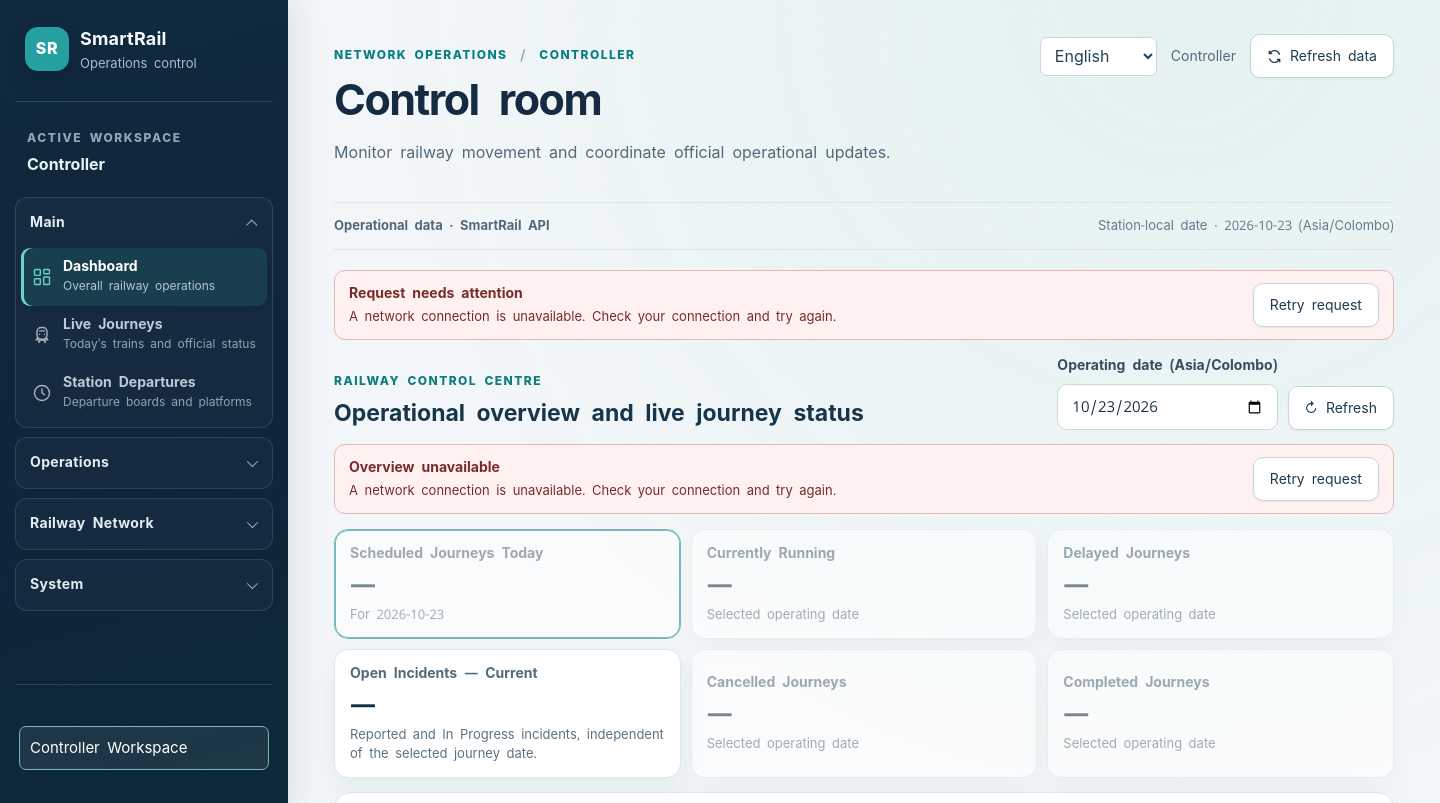
Test: operations workspace interactions › submits a validated station incident with the API contract and announces success
Click the button "Operations" at (144, 462), box left=16, top=438, right=272, bottom=488
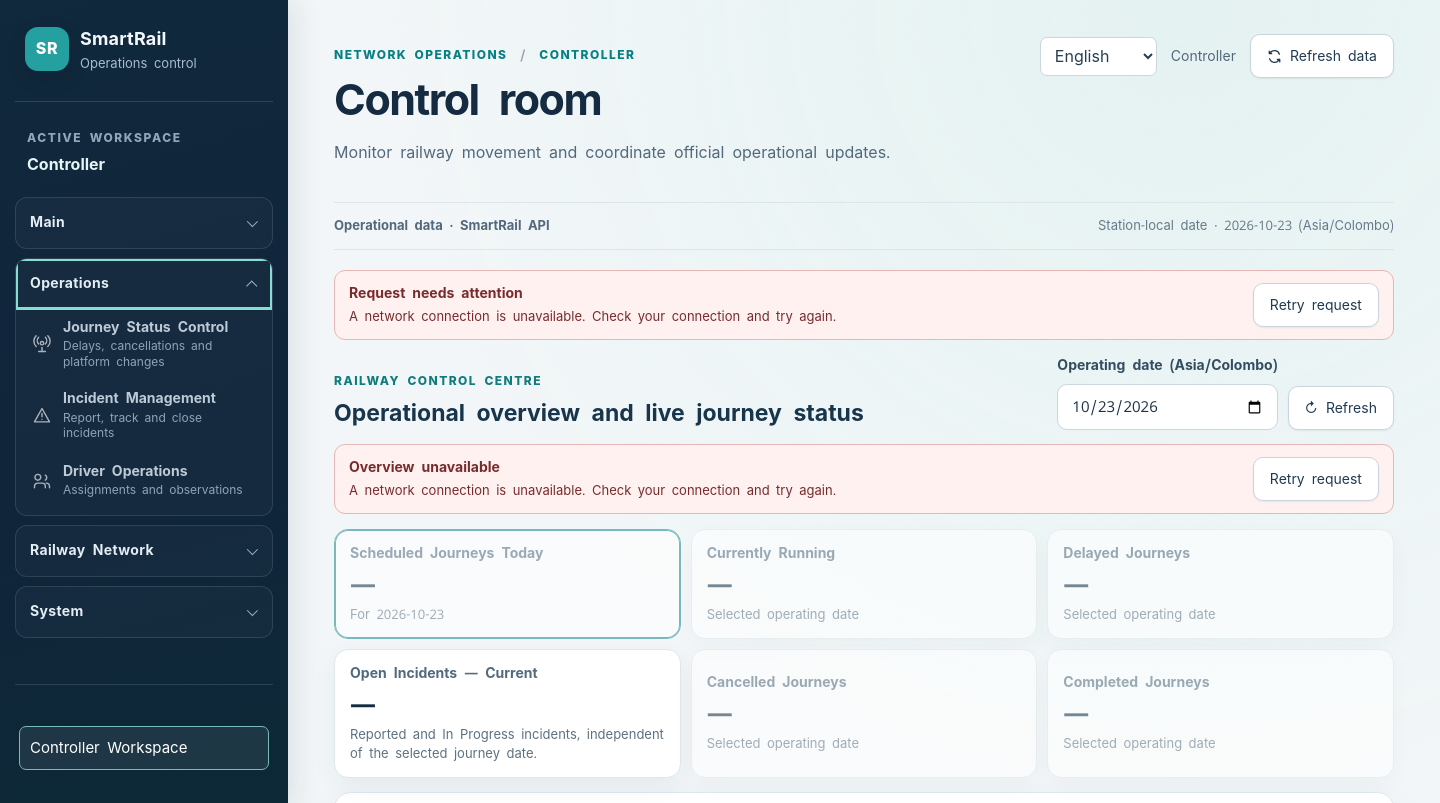
Click the button "Incident Management Report, track and close incidents" at (144, 416), box left=21, top=380, right=267, bottom=452
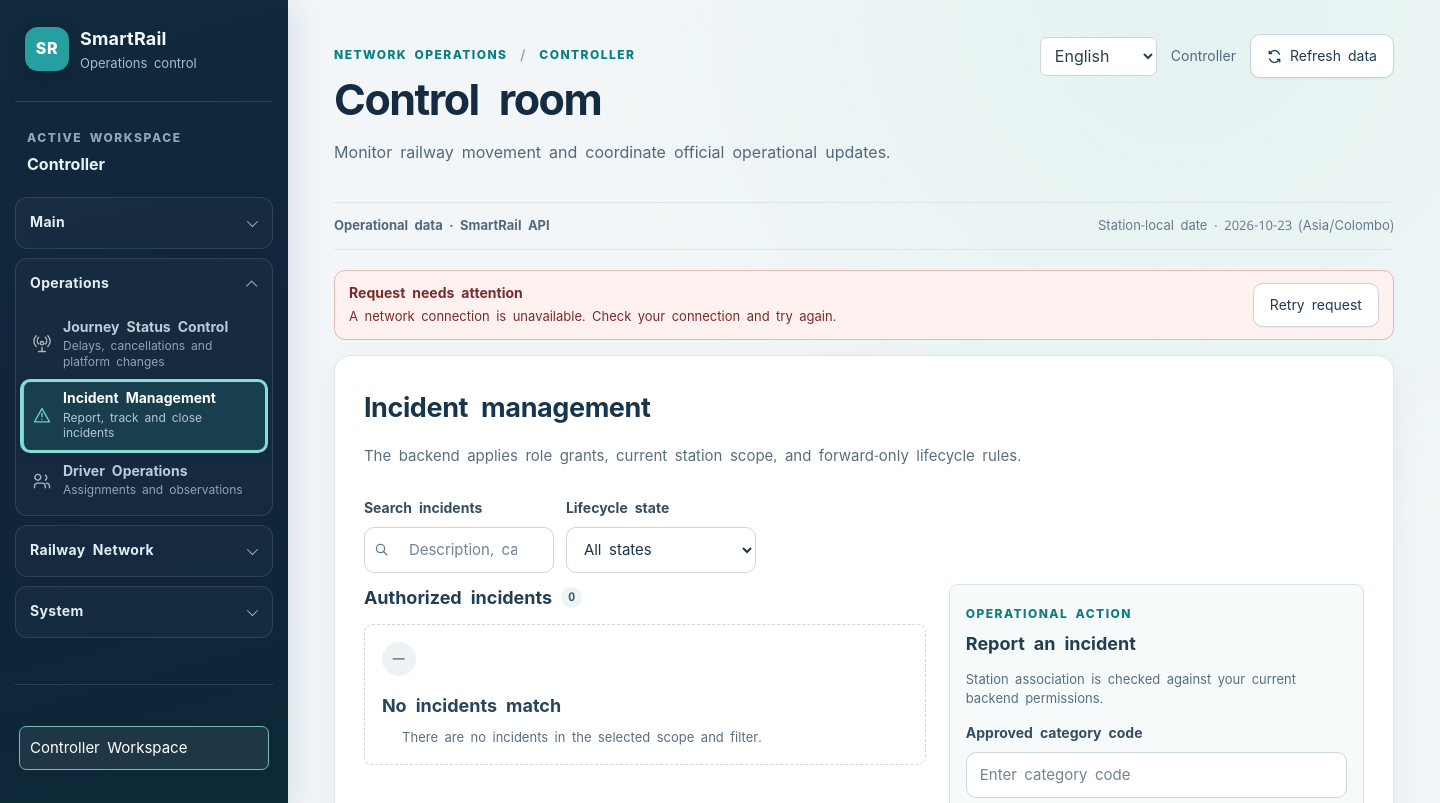
Type "APPROVED_TEST_CODE" into the field labelled "Approved category code" at (1156, 774), box left=966, top=752, right=1347, bottom=798
(page scrolled)
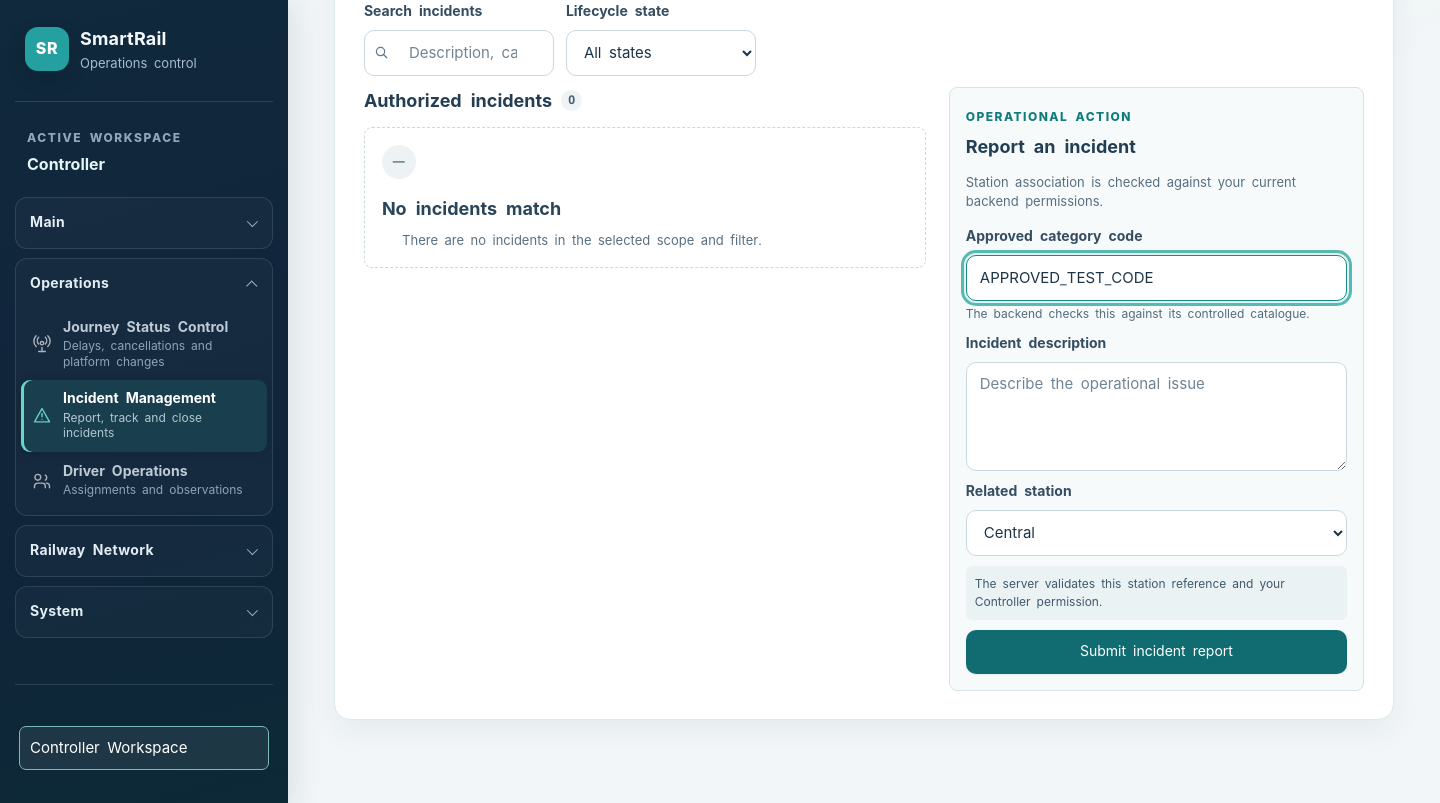
Type "Track access issue near platform two" into the text box labelled "Incident description" at (1156, 416), box left=966, top=362, right=1347, bottom=470
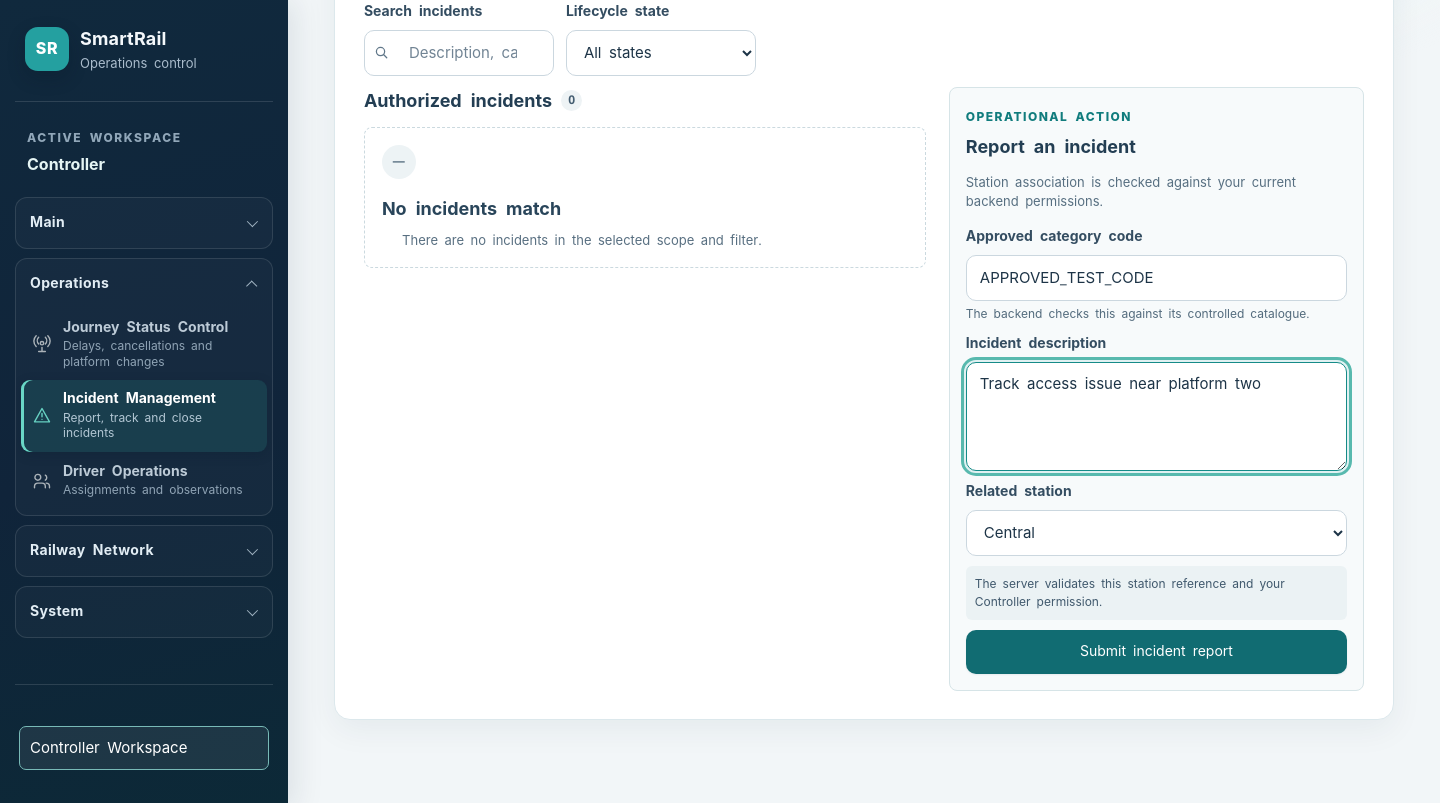
Click the button "Submit incident report" at (1156, 652), box left=966, top=630, right=1347, bottom=674
(page scrolled)
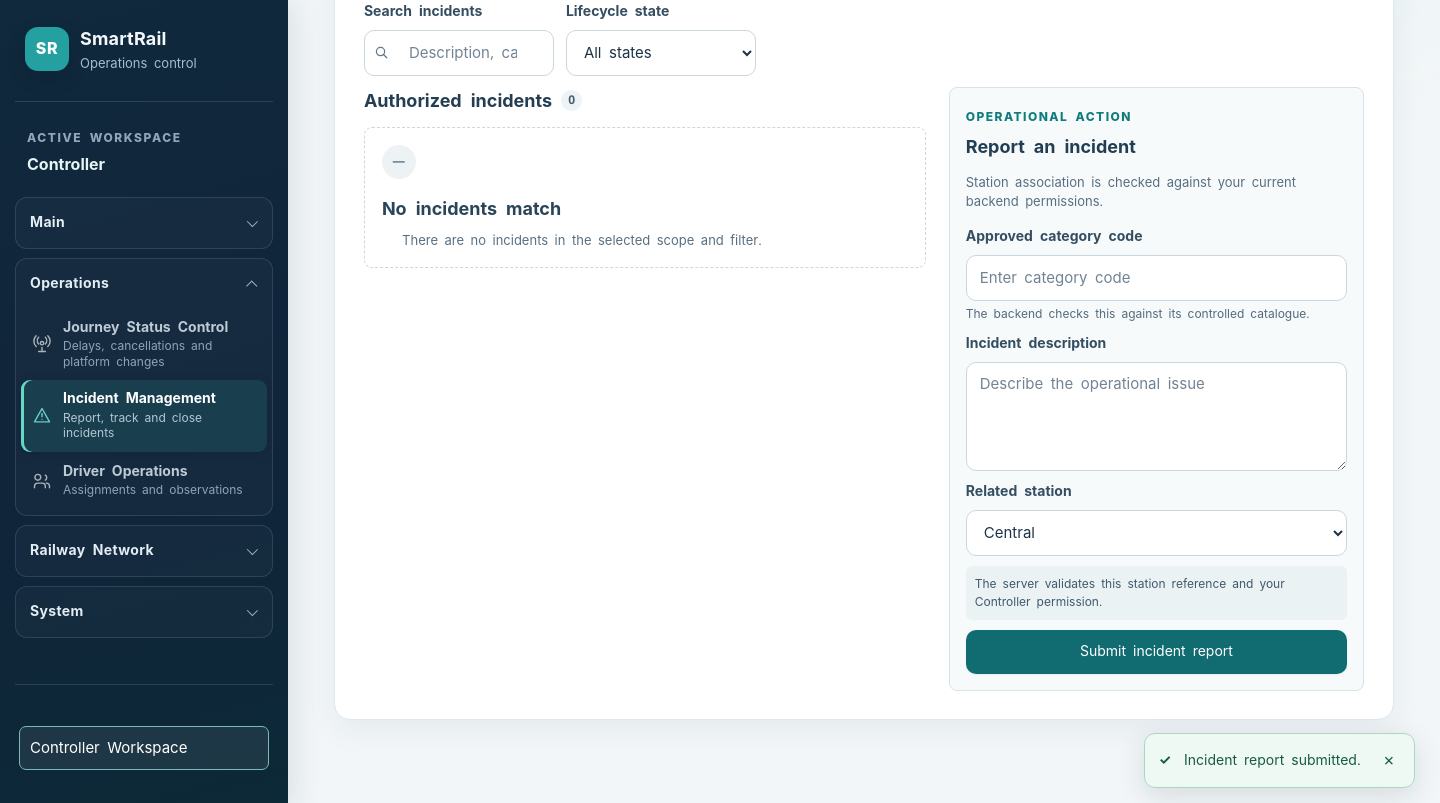
Now the text "✓ Incident report submitted." is shown, box left=1159, top=750, right=1361, bottom=771
